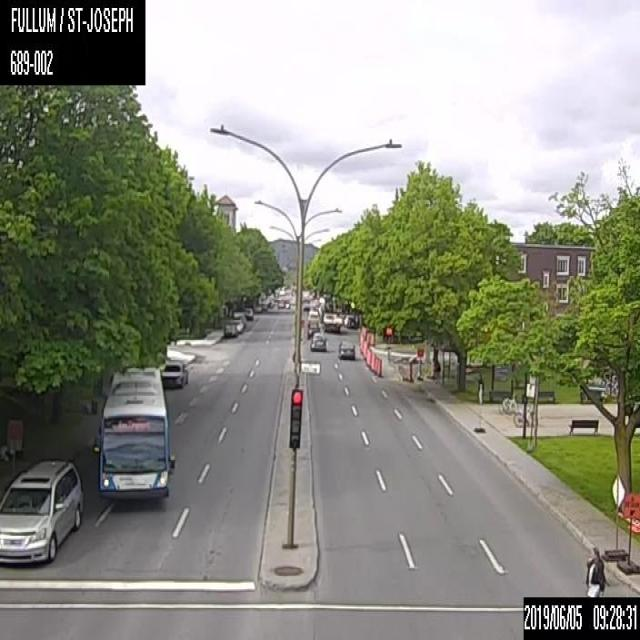bus: (92, 359, 174, 496)
construction: (600, 471, 628, 560), (616, 489, 639, 574), (473, 380, 485, 433), (392, 360, 416, 383), (362, 340, 368, 360), (376, 357, 382, 376), (370, 352, 375, 370), (366, 348, 371, 366), (374, 356, 378, 374)
pedestrian: (583, 544, 607, 595)
vehicle: (0, 456, 85, 563), (160, 360, 188, 390), (322, 312, 342, 332), (337, 338, 355, 358), (310, 332, 326, 351), (222, 320, 235, 337), (231, 318, 243, 333), (346, 316, 356, 328)
